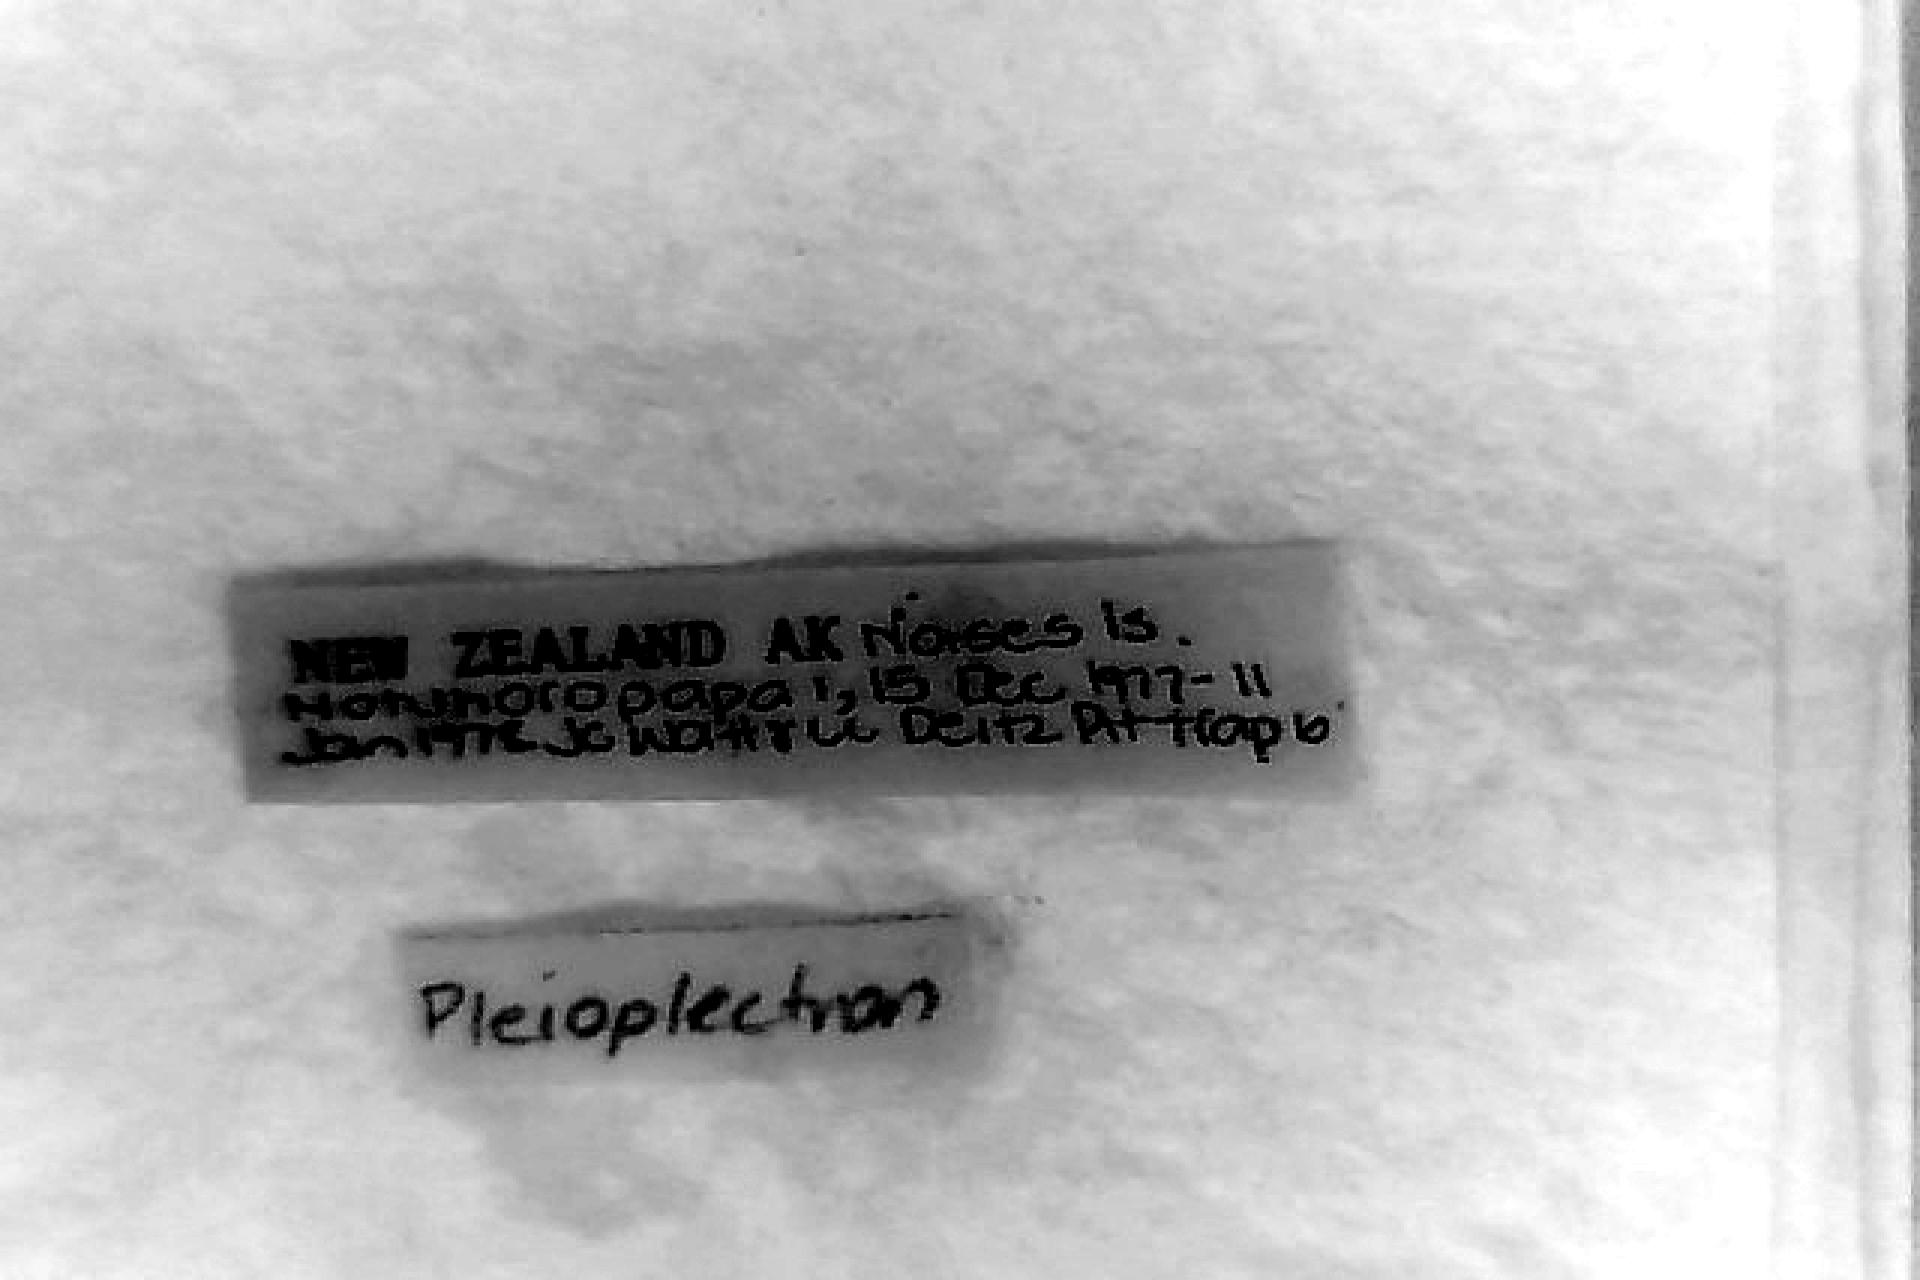hand_label: (407, 913, 975, 1083)
mixed_label: (232, 543, 1354, 800)
